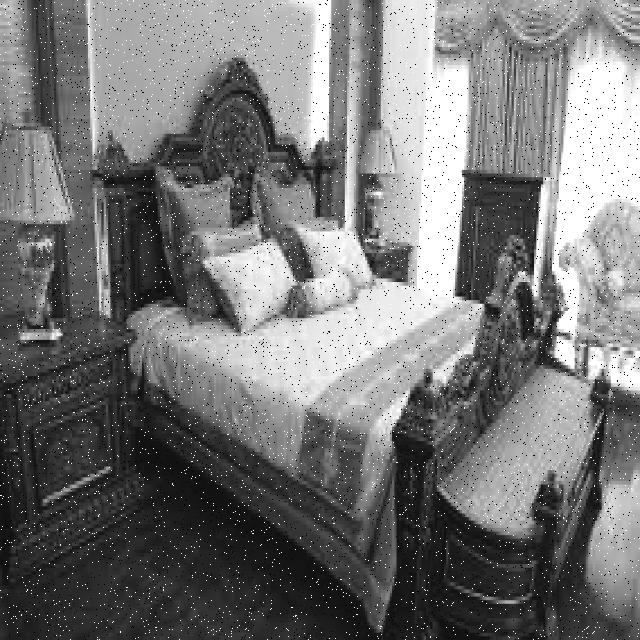bed: (124, 163, 486, 484)
